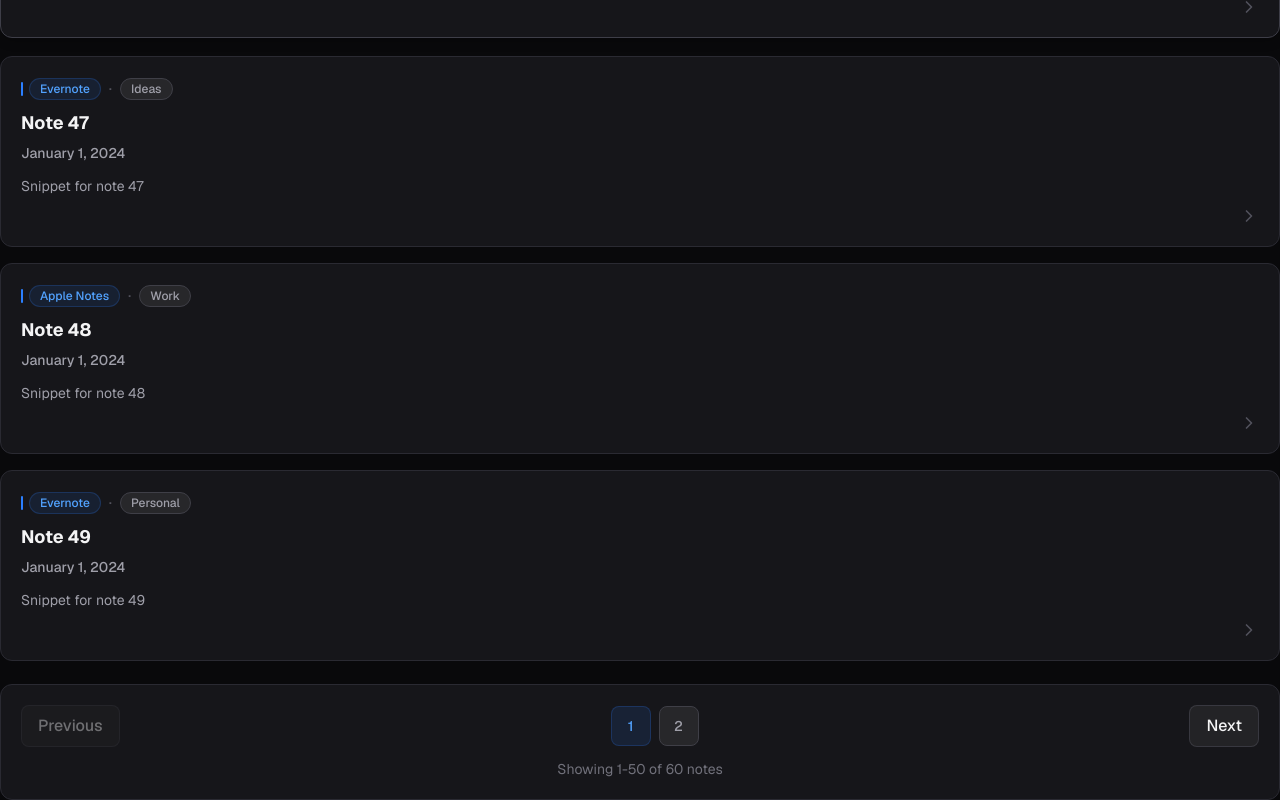
Test case: BrowsePage › paginates results
The image size is (1280, 800).
(page scrolled)
Expected: the text "Showing 1-50 of 60 notes" is shown, [557,760,723,778]
Click the button "Next" at (1224, 726), box [1189,705,1259,747]
(page scrolled)
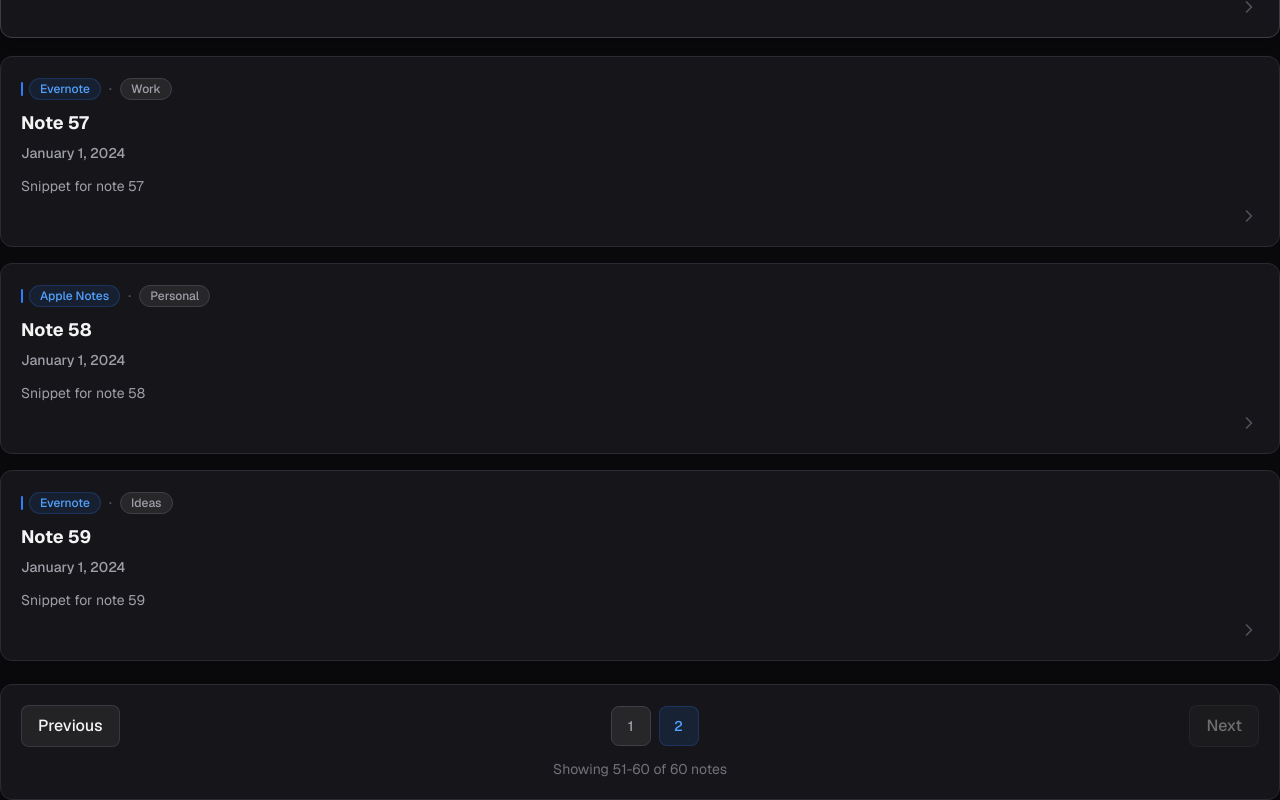
Now the text "Showing 51-60 of 60 notes" is shown, box [553,760,727,778]
